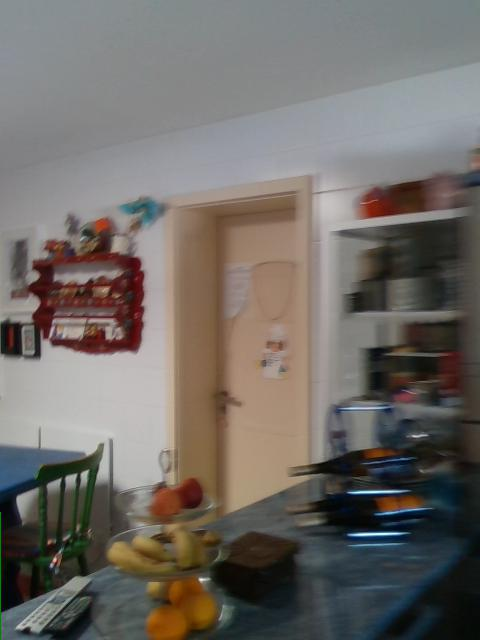door: (216, 207, 297, 532)
